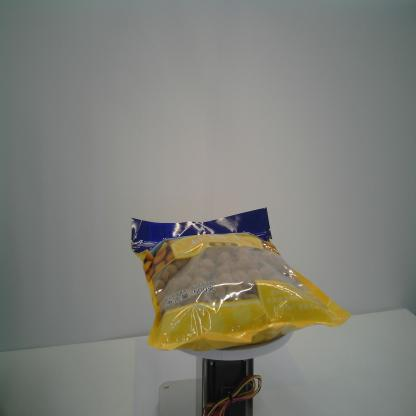Dried Food: (128, 205, 354, 353)
